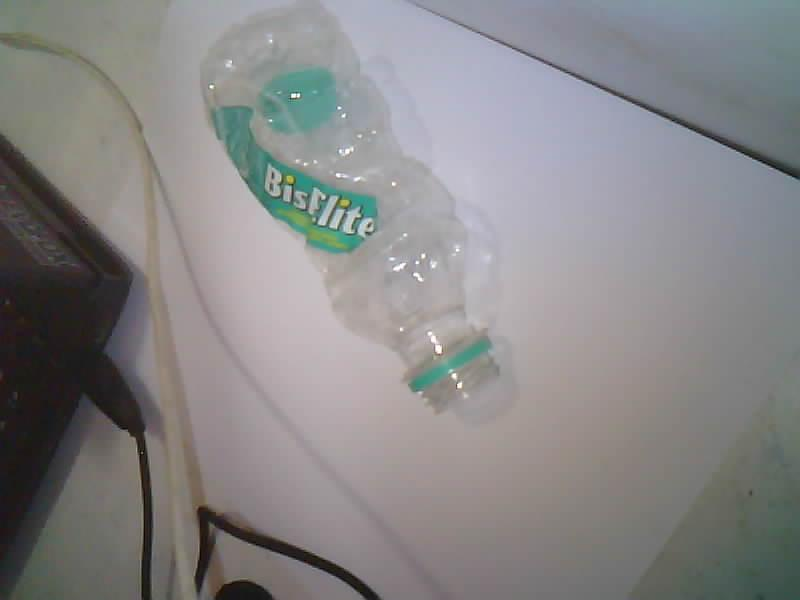non-biodegradable: (201, 0, 497, 409)
